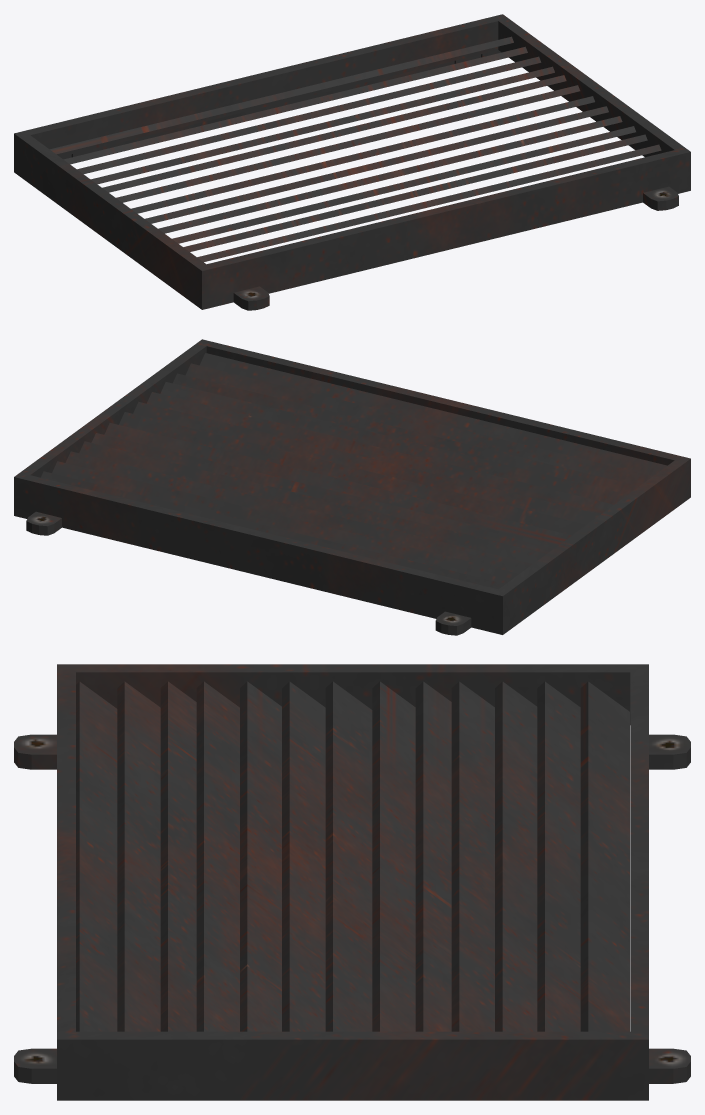
The model's file is vent.fbx.
3 renders of one model, top to bottom at view 1: azimuth 30°, elevation 25°; view 2: azimuth 150°, elevation 25°; view 3: azimuth 270°, elevation 25°, orthographic. The views are drawn at different scales.
Parts seen in each view (by area): view 1: vent; view 2: vent; view 3: vent.
Boxes of the visible parts, box(x1,y1,x2,y2) form: vent: box(14, 14, 690, 310); vent: box(14, 339, 690, 635); vent: box(14, 664, 690, 1100).
Bounding box in the file's own units: 1.93 × 0.1471 × 1.48.
1 material, 1 textured.
